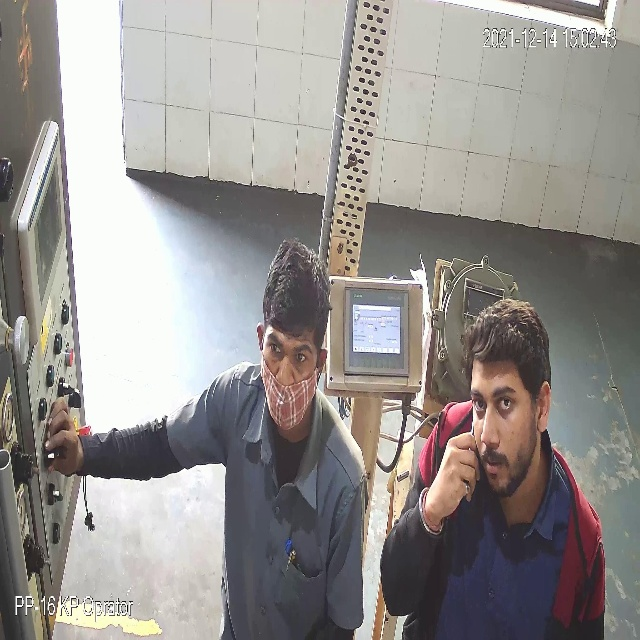Sin_gafas: (467, 392, 534, 427), (264, 328, 317, 370)
Sin_mascara: (472, 424, 538, 504)
